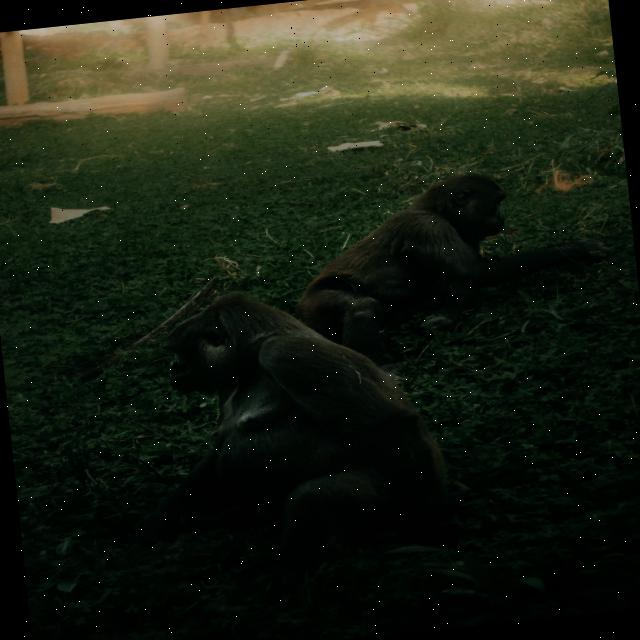Gorilla: (108, 270, 458, 580), (283, 159, 604, 375)
